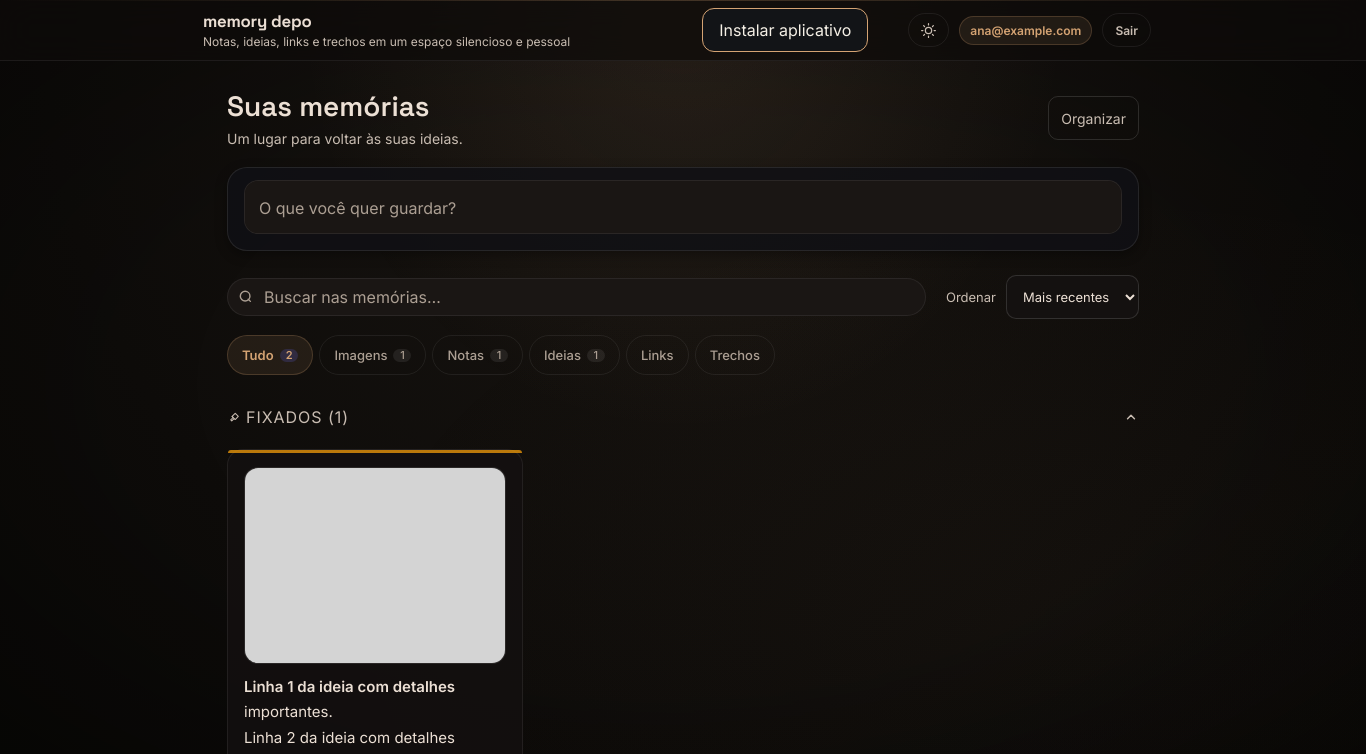
Test: App long content affordances › collapses pinned memories and shows only a link domain on the card
Click the button "Fixados (1)": (290, 417) [227, 395, 1139, 439]
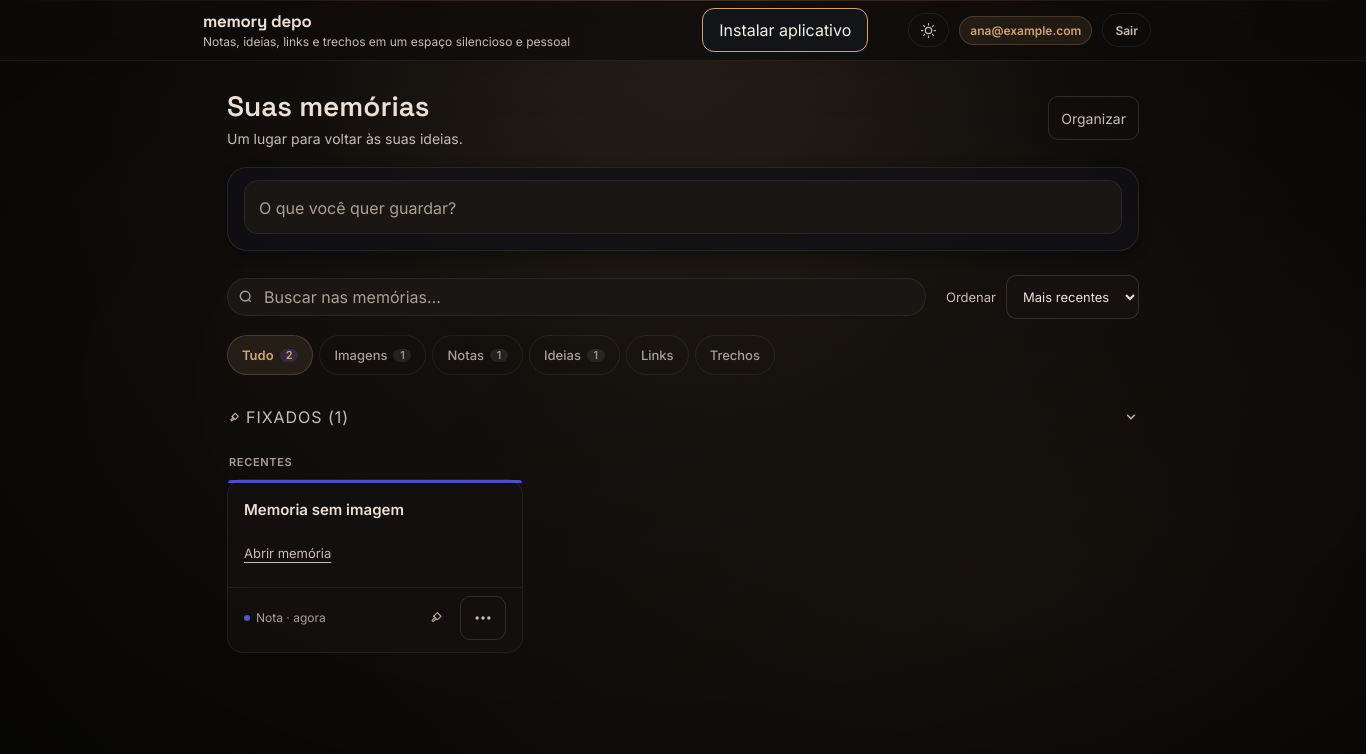
Now the button "Fixados (1)" is collapsed, box [227, 395, 1139, 439]
